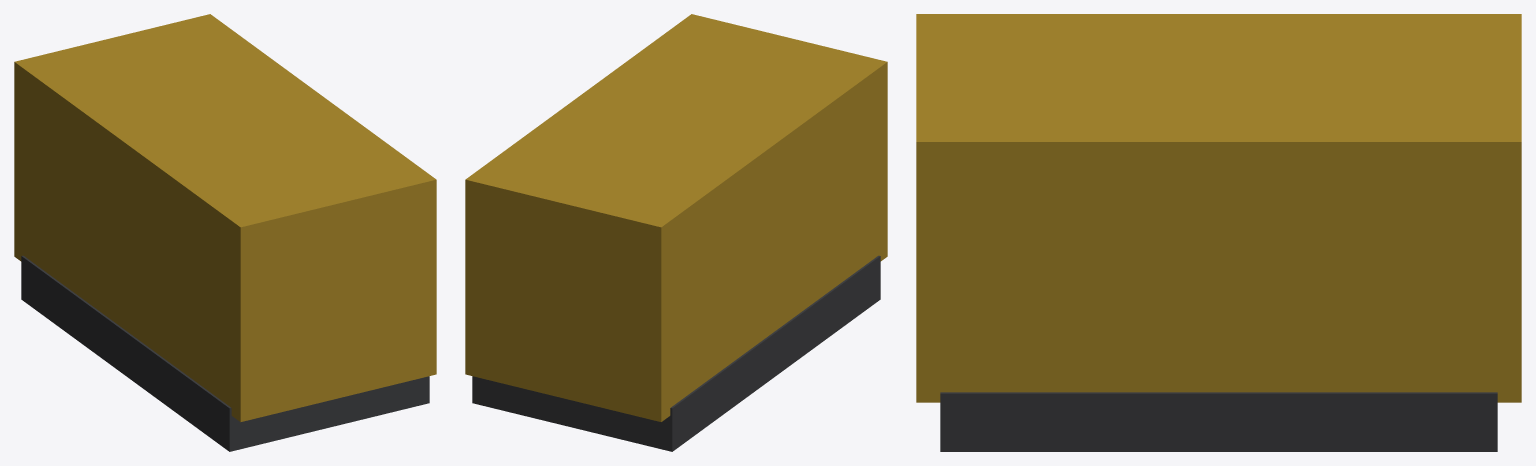
Rendered from sdsc_gse_gpu.glb.
3 renders of one model, left to right at view 1: azimuth 30°, elevation 25°; view 2: azimuth 150°, elevation 25°; view 3: azimuth 270°, elevation 25°, orthographic. The views are drawn at different scales.
Visible parts, largest first — view 1: sdsc_gse_gpu; view 2: sdsc_gse_gpu; view 3: sdsc_gse_gpu.
Part boxes in pixels (x1,y1,x2,y2): sdsc_gse_gpu: (14, 14, 436, 451); sdsc_gse_gpu: (465, 14, 887, 451); sdsc_gse_gpu: (916, 14, 1521, 451).
Size of the model in its own units: 1.63 by 1.8 by 3.2.
